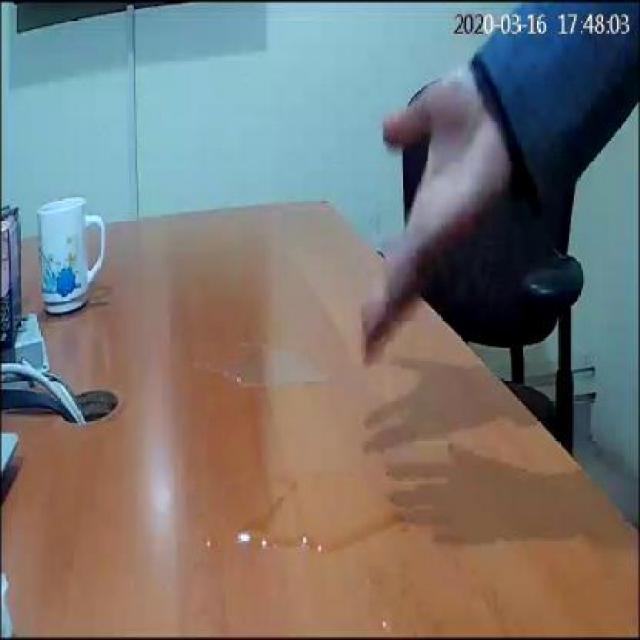spill: (239, 477, 407, 555), (208, 342, 324, 386)
